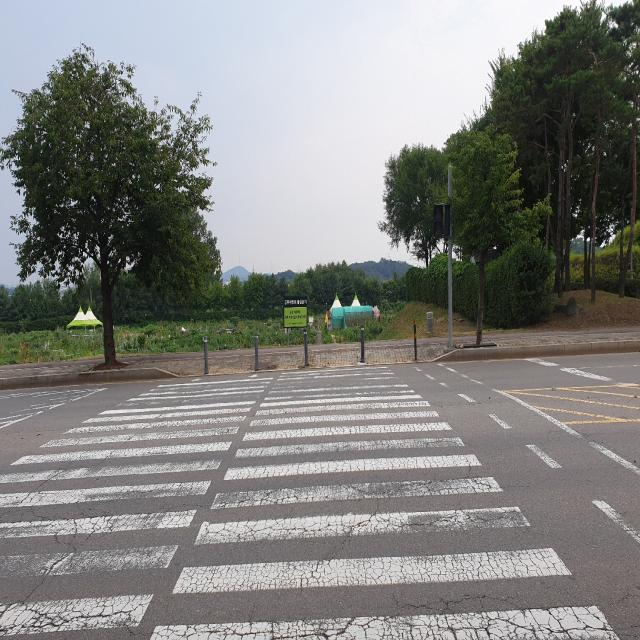횡단보도: (0, 365, 619, 639)
